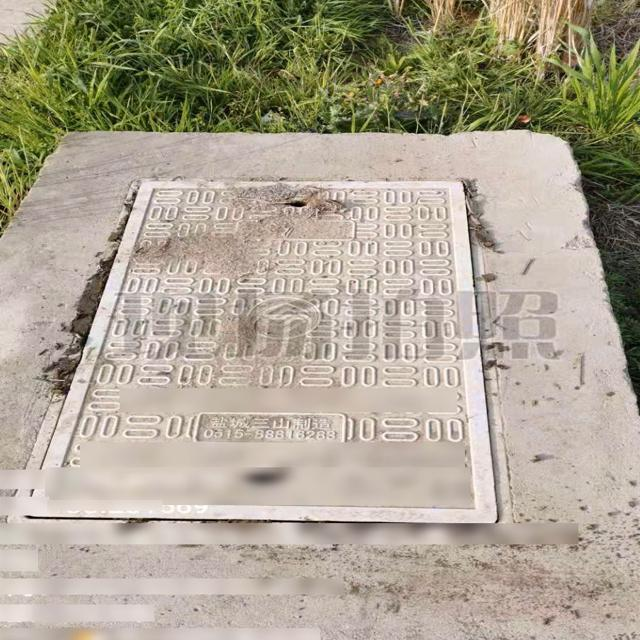good: (56, 130, 521, 535)
